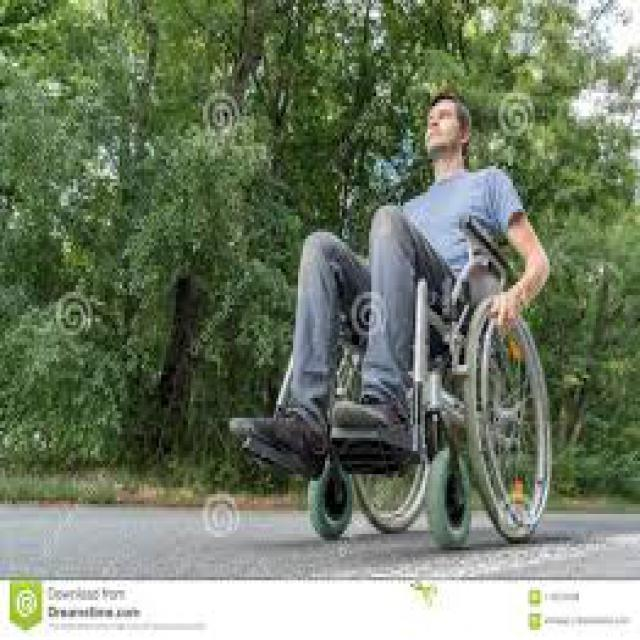wheelchairs: (239, 209, 562, 544)
